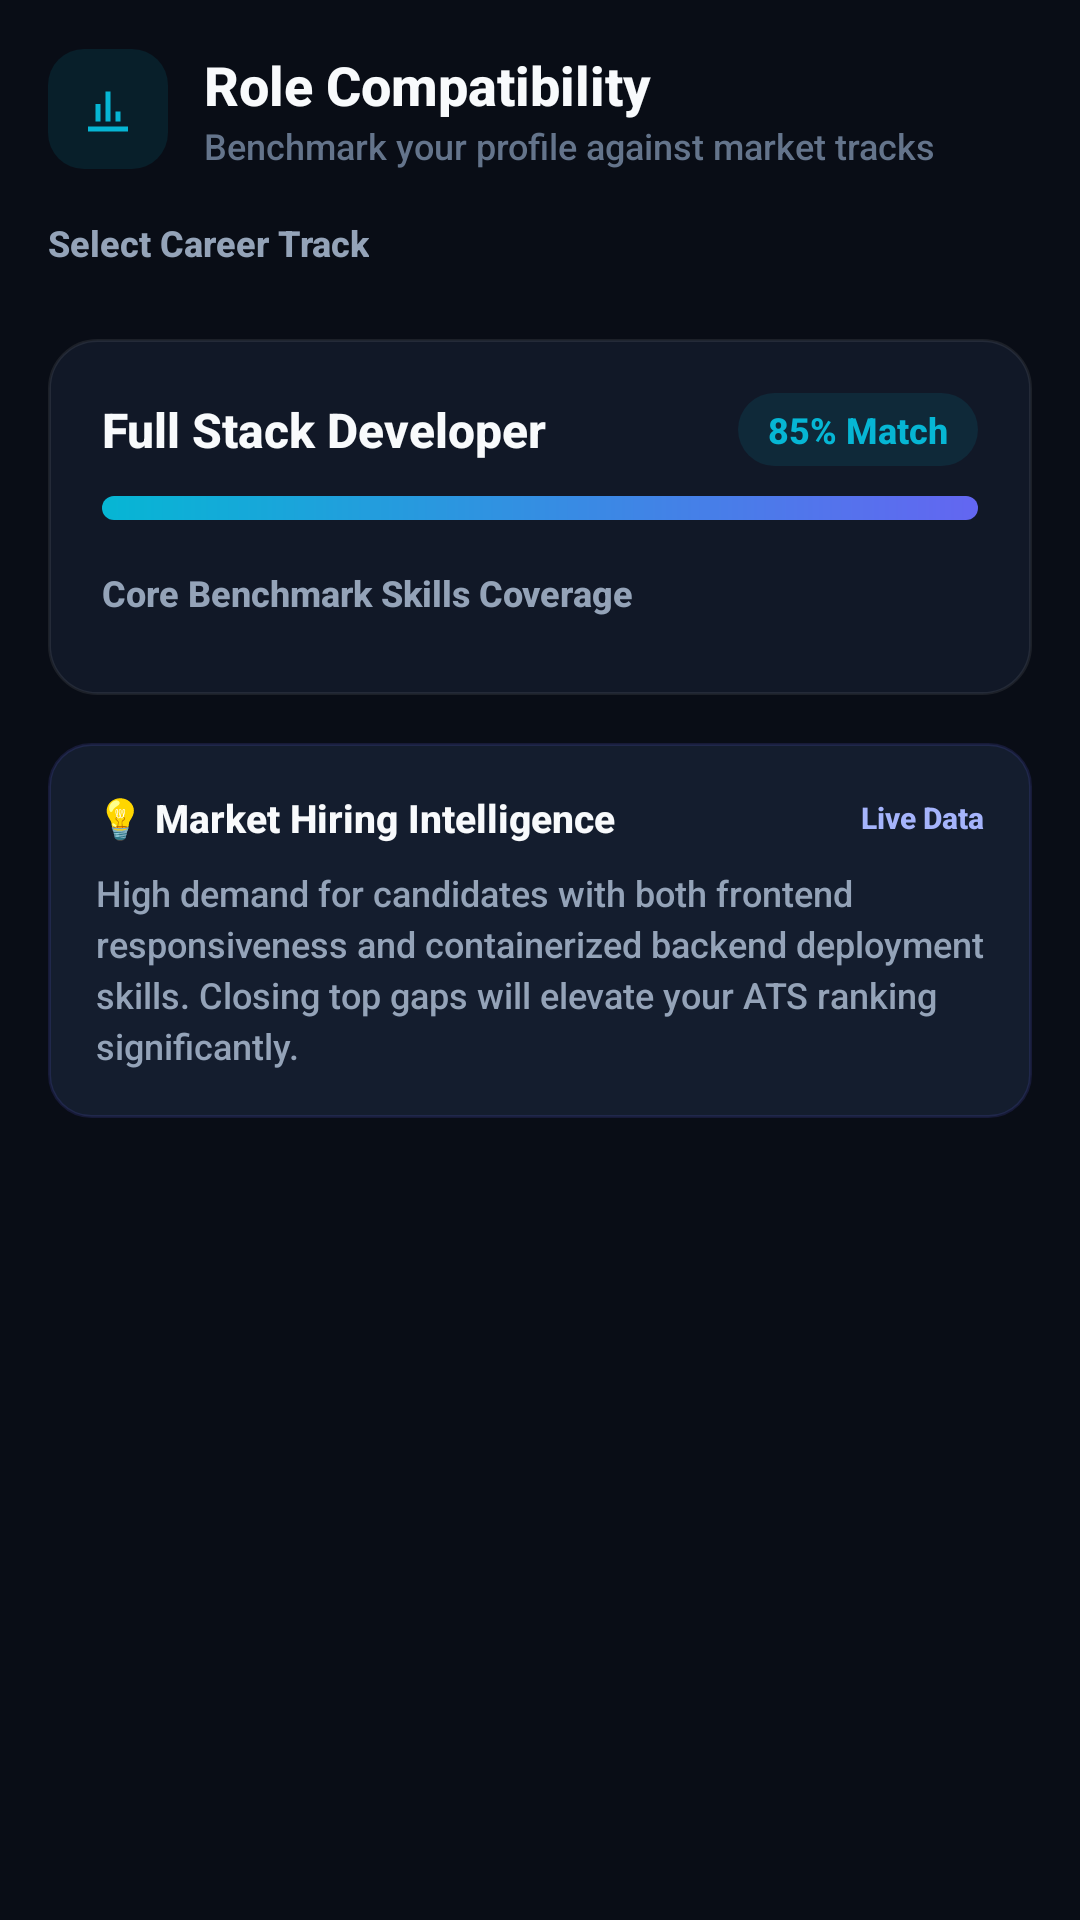

Icon bounding boxes for this 1080x1920 phone screenshot, format (x1, y1, x2, y2):
analytics: (88, 91, 128, 132)
